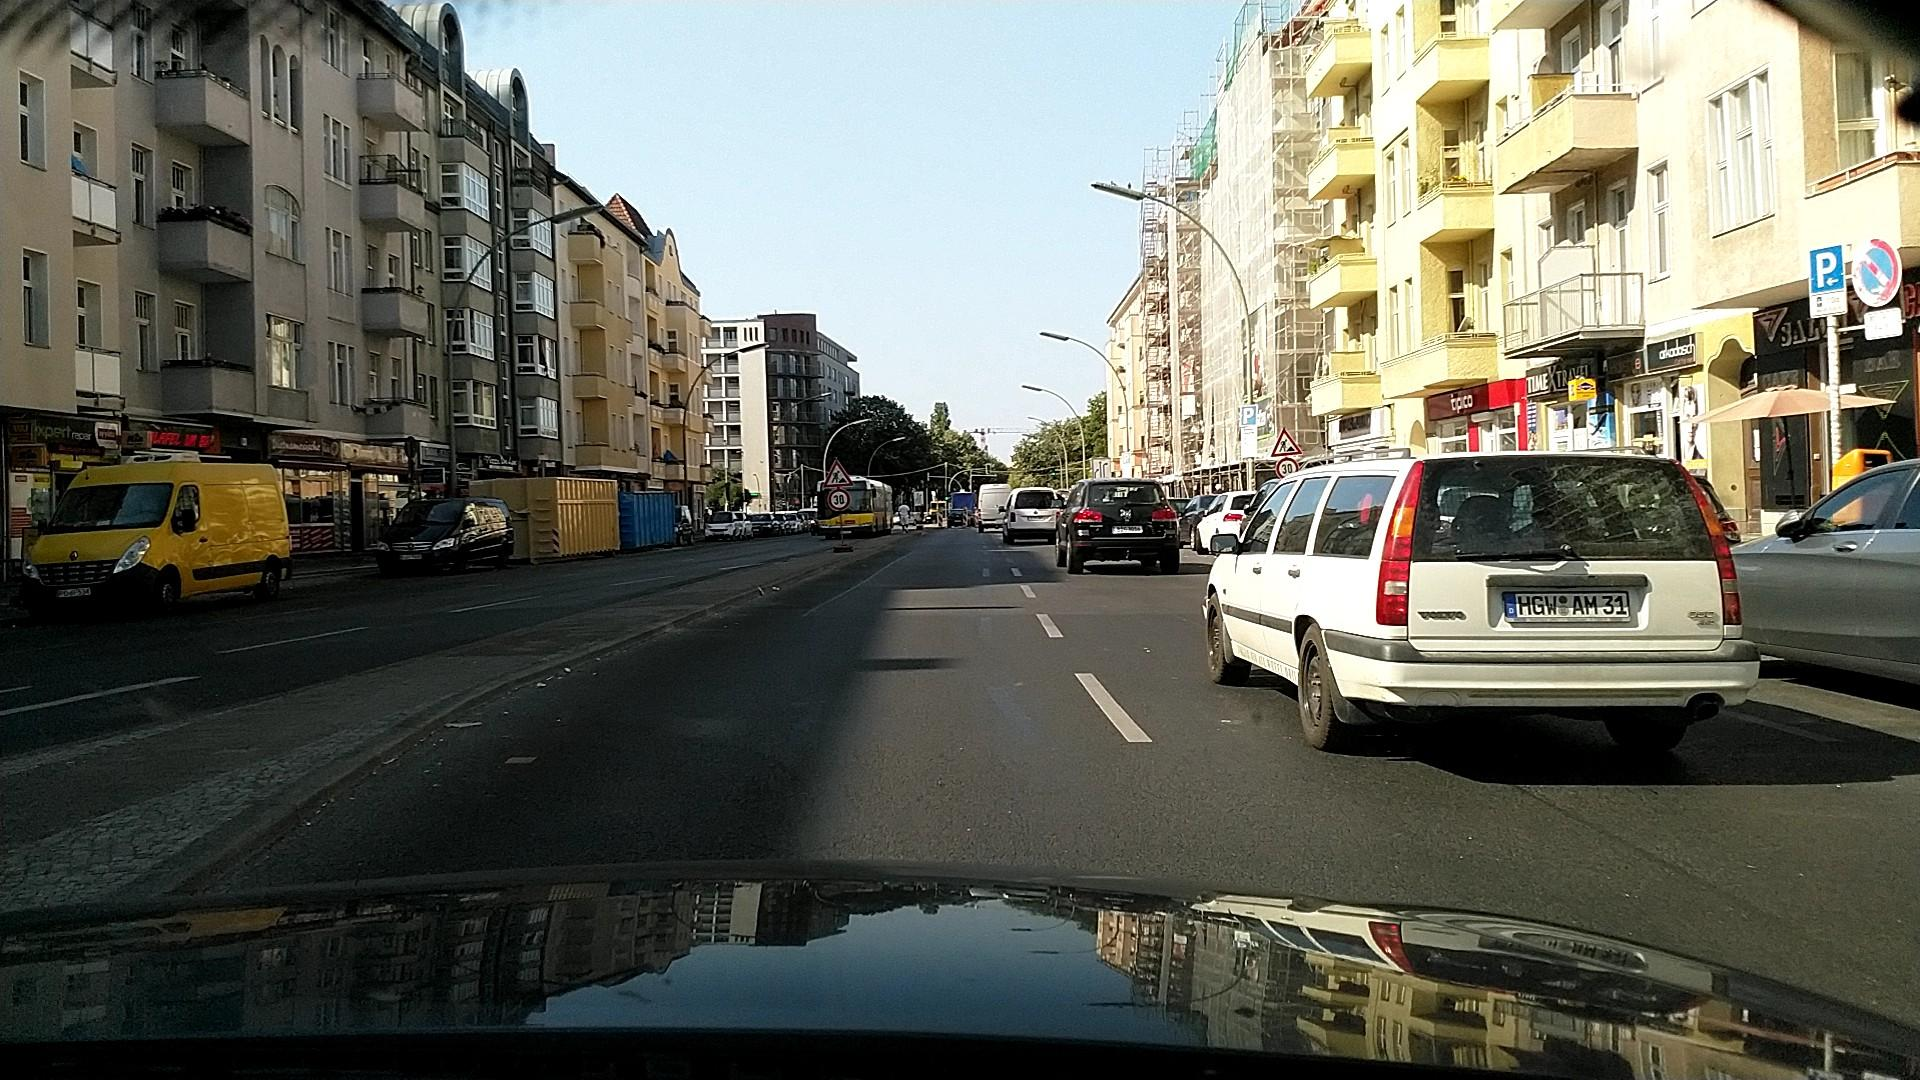Vehicle registration plate: (1503, 593, 1630, 624), (57, 587, 92, 597), (1111, 525, 1143, 534), (399, 554, 422, 560)
